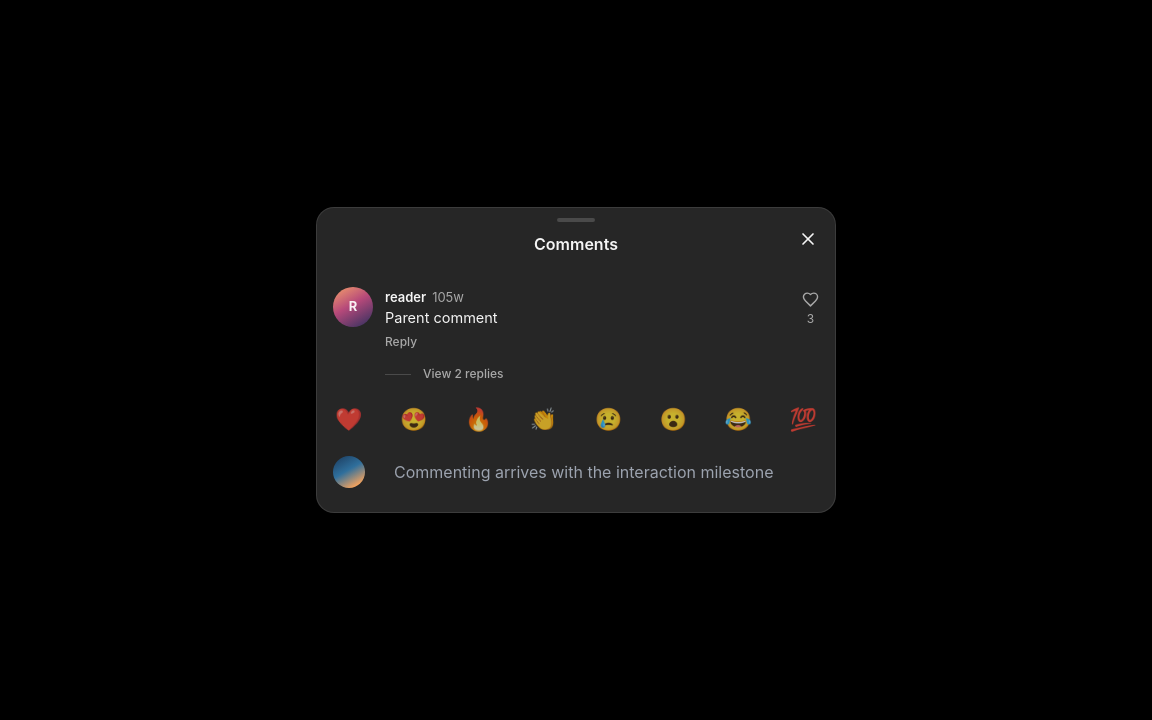
modal sheets › expands a reply thread on demand
This screenshot has width=1152, height=720.
Click the button "View 2 replies": (444, 374) x1=385 y1=365 x2=504 y2=383
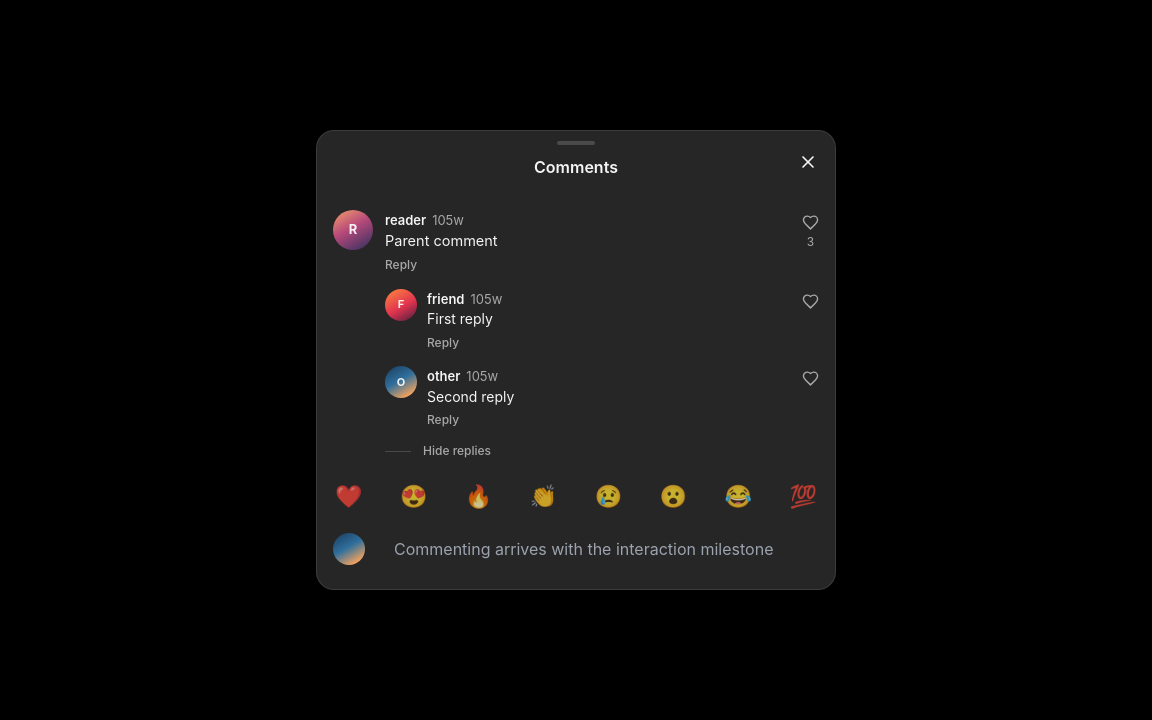
Expected: the text "First reply" is shown, x1=427 y1=310 x2=493 y2=327
Click the button "Hide replies": (438, 451) x1=385 y1=442 x2=491 y2=460
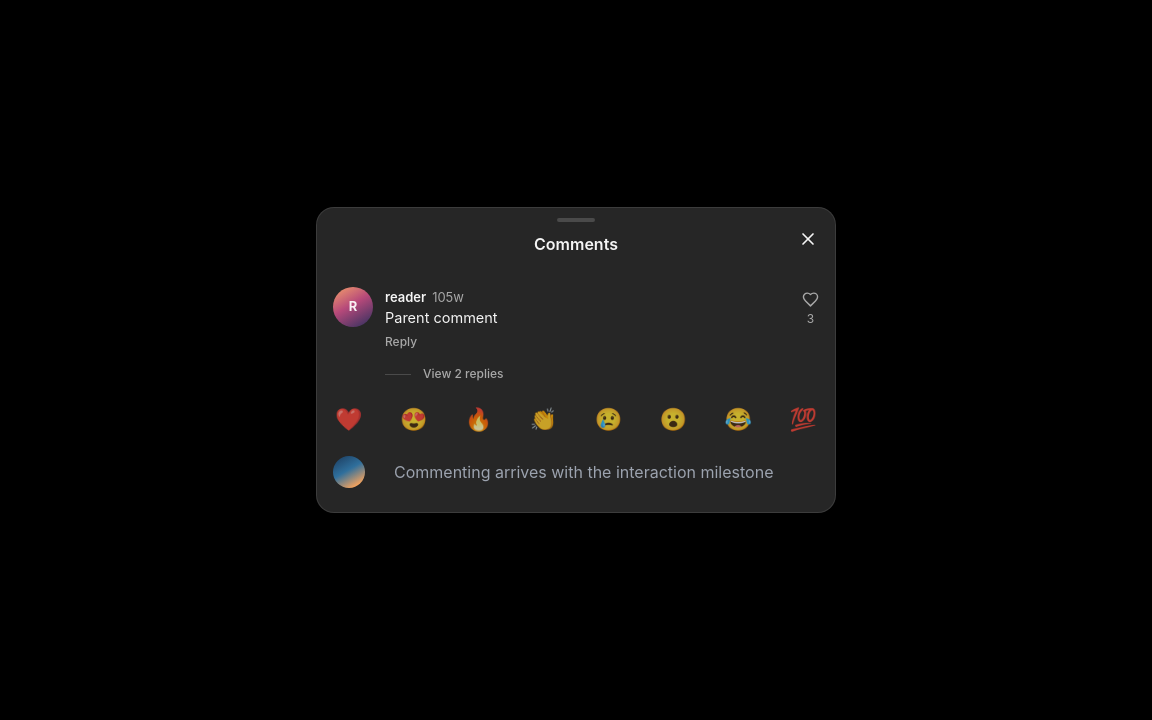
Expected: the text "First reply" is gone
